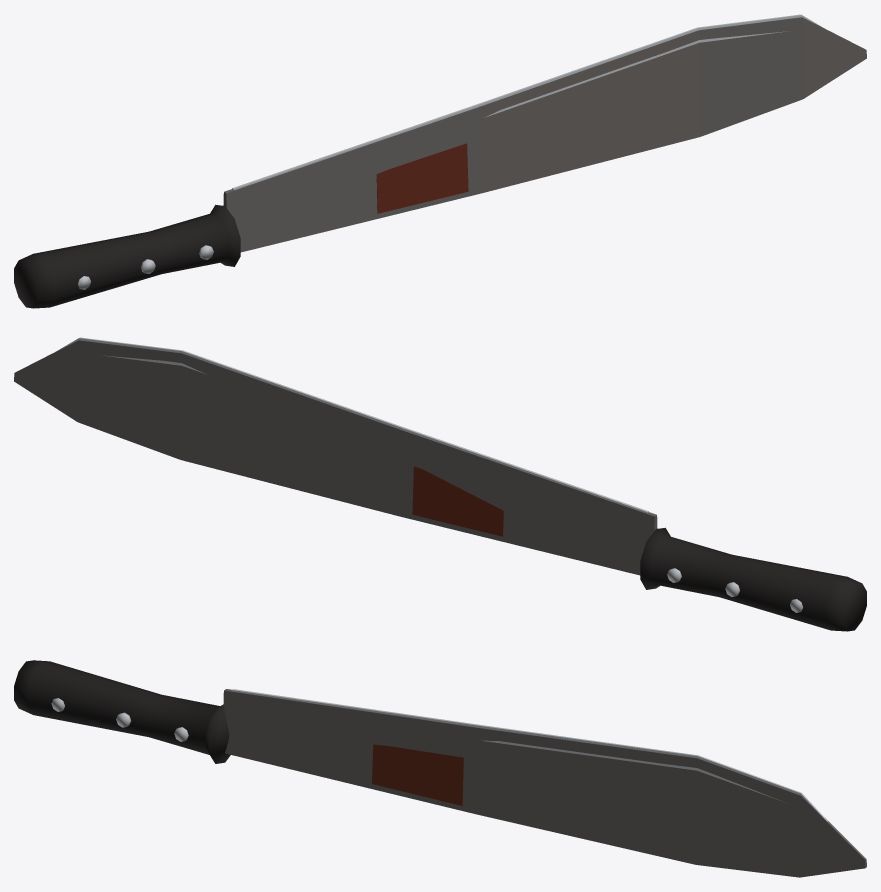
Rendered from item_machete.glb.
3 views of the same model, one above another, from view 1: azimuth 30°, elevation 25°; view 2: azimuth 150°, elevation 25°; view 3: azimuth 330°, elevation 25° (orthographic).
Visible parts, largest first — view 1: blade, grip, rust, edge; view 2: blade, grip, rust, edge; view 3: blade, grip, rust, edge.
Part boxes in pixels (box(x1,y1,x2,y2)): blade: box(223, 17, 866, 252); grip: box(14, 204, 240, 308); rust: box(376, 143, 468, 213); edge: box(232, 14, 826, 190); blade: box(14, 340, 657, 575); grip: box(640, 527, 866, 631); rust: box(412, 466, 503, 536); edge: box(54, 337, 648, 513); blade: box(223, 689, 866, 877); grip: box(14, 660, 230, 763); rust: box(372, 744, 463, 805); edge: box(232, 689, 827, 821).
Size of the model in its own units: 0.65 by 0.0905 by 0.0418.
